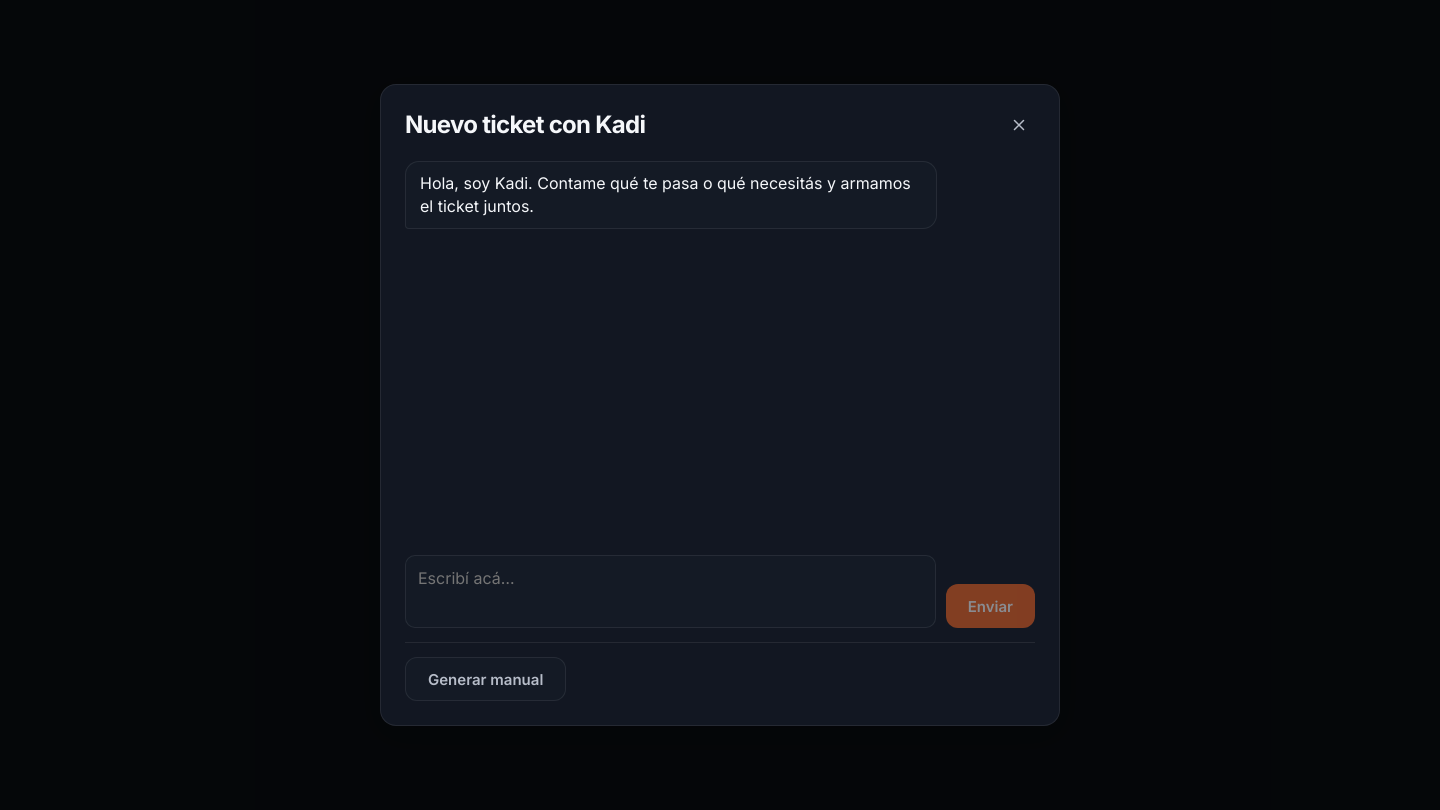
Test case: ModalNuevoTicket › si Kadi está habilitada abre el chat, y "Generar manual" muestra el formulario de siempre
Check: the text "Hola, soy Kadi" is shown, box [420,173,915,216]
Check: the field labelled "Tipo de ticket" is not shown
Click the button "Generar manual".
click(486, 679)  # box [405,657,566,701]
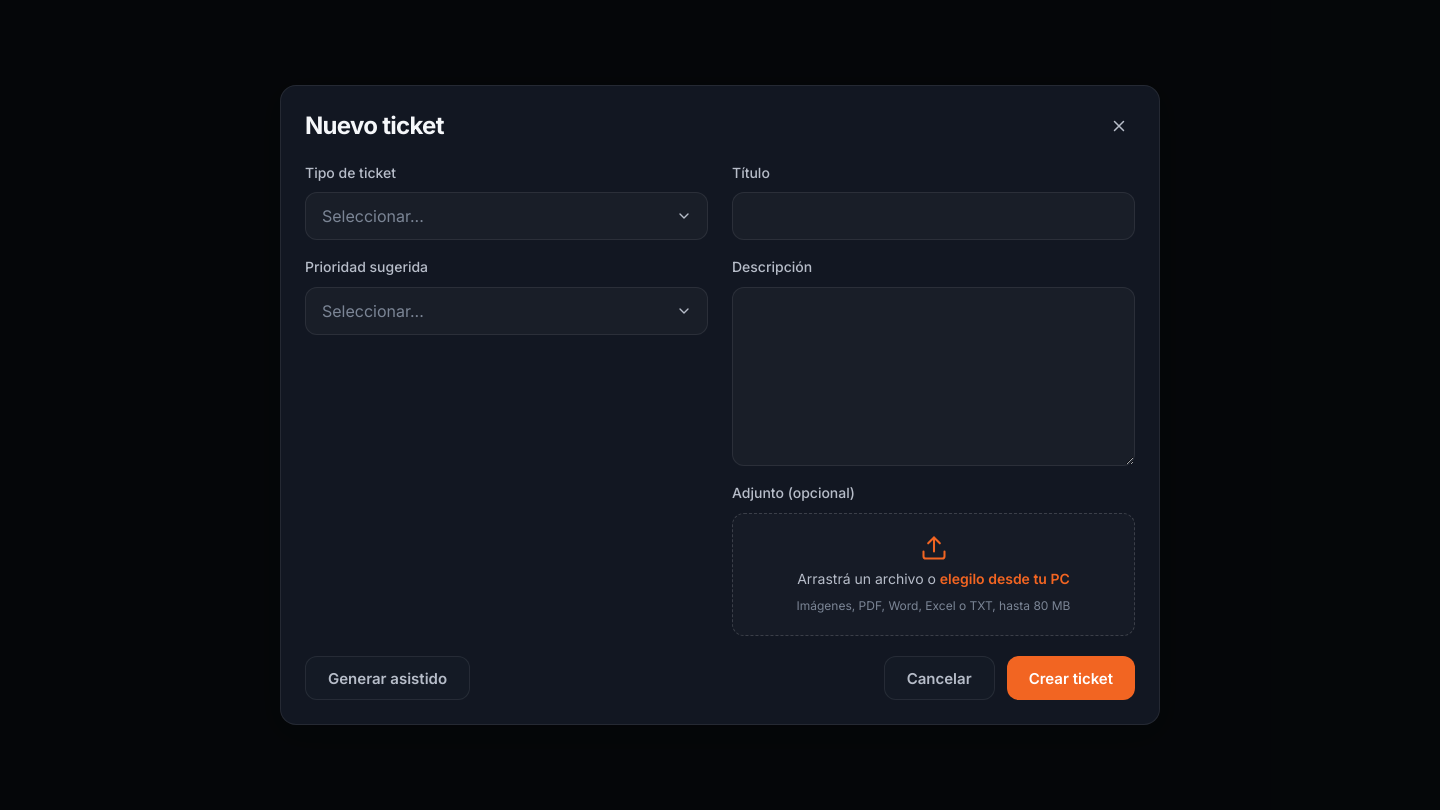
Check: the dropdown labelled "Tipo de ticket" is shown, box [305,192,708,240]
Click the button "Generar asistido".
click(388, 678)  # box [305,656,470,700]
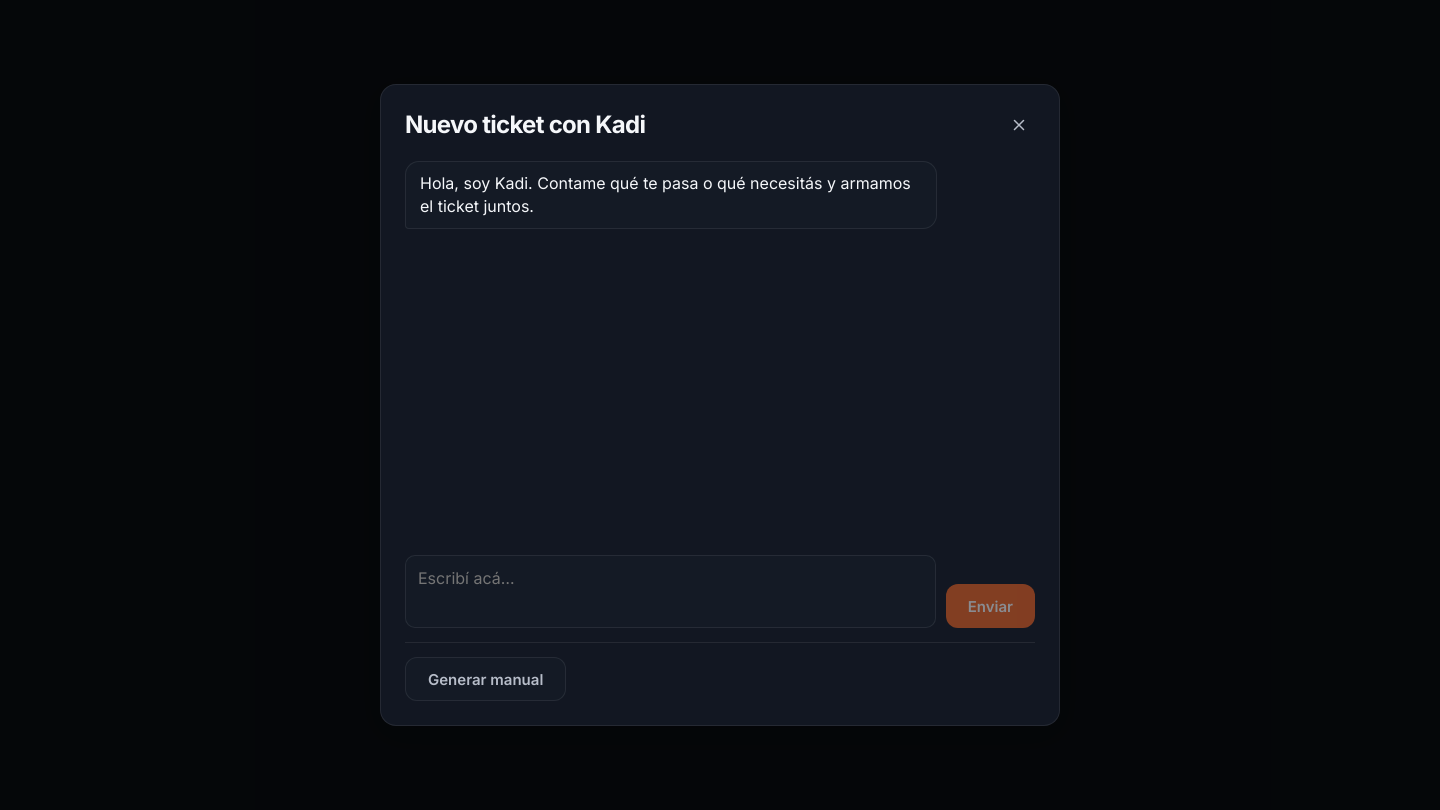
Check: the text "Hola, soy Kadi" is shown, box [420,173,915,216]
Check: the label labelled "Tipo de ticket" is gone
